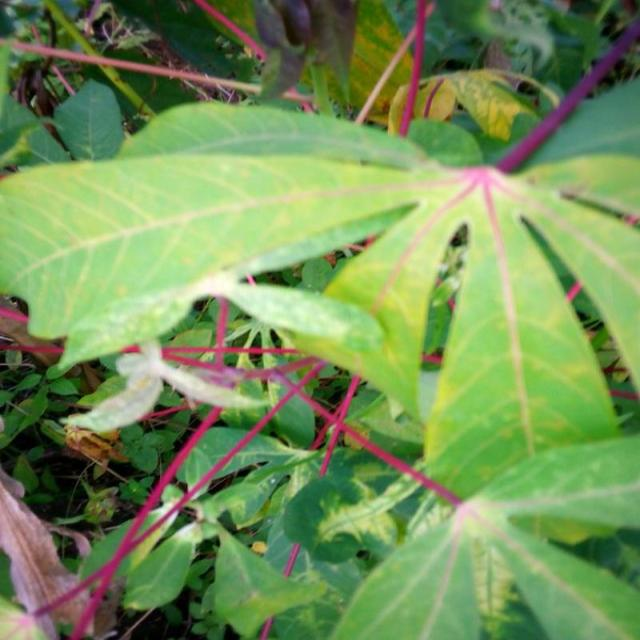cassava leaf: (1, 70, 640, 637), (1, 97, 435, 377)
